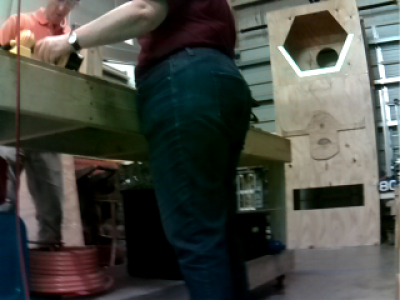target: (278, 34, 354, 77)
